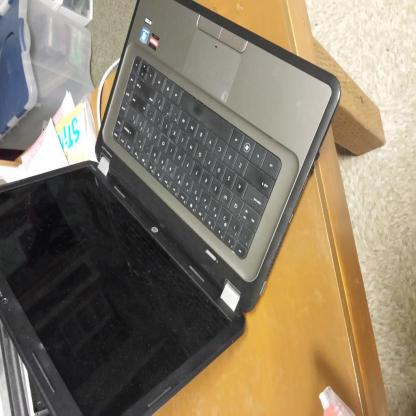board: (0, 0, 340, 415)
